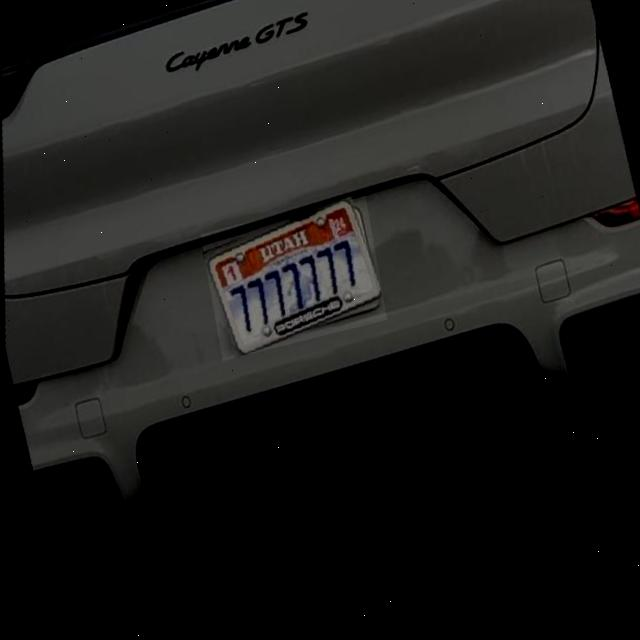LicensePlate: (204, 204, 382, 360)
